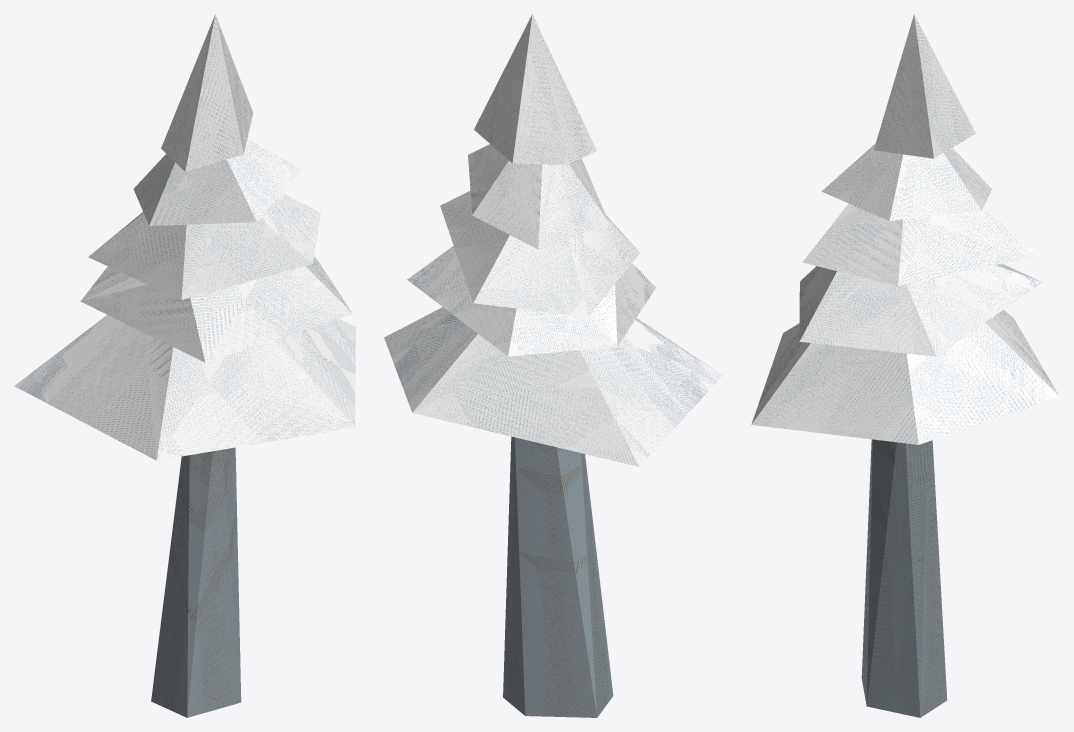
Rendered from Tree_Pine_Snow_Tall_01.fbx.
3 views of the same model, side by side, from view 1: azimuth 30°, elevation 25°; view 2: azimuth 150°, elevation 25°; view 3: azimuth 270°, elevation 25° (orthographic). The views are drawn at different scales.
Parts seen in each view (by area): view 1: Model; view 2: Model; view 3: Model.
Part boxes in pixels (<box>): Model: <box>14,14,355,717</box>; Model: <box>384,14,722,717</box>; Model: <box>751,14,1059,717</box>.
Size of the model in its own units: 454 by 987 by 399.
